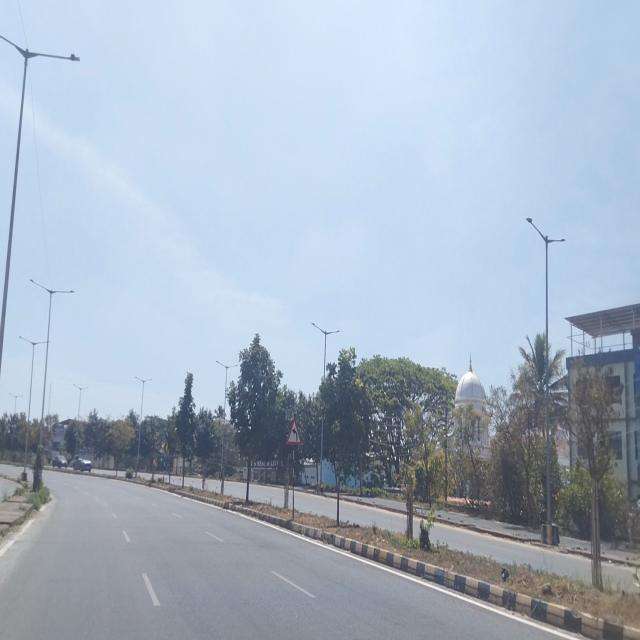bien_cam: (286, 418, 302, 446)
